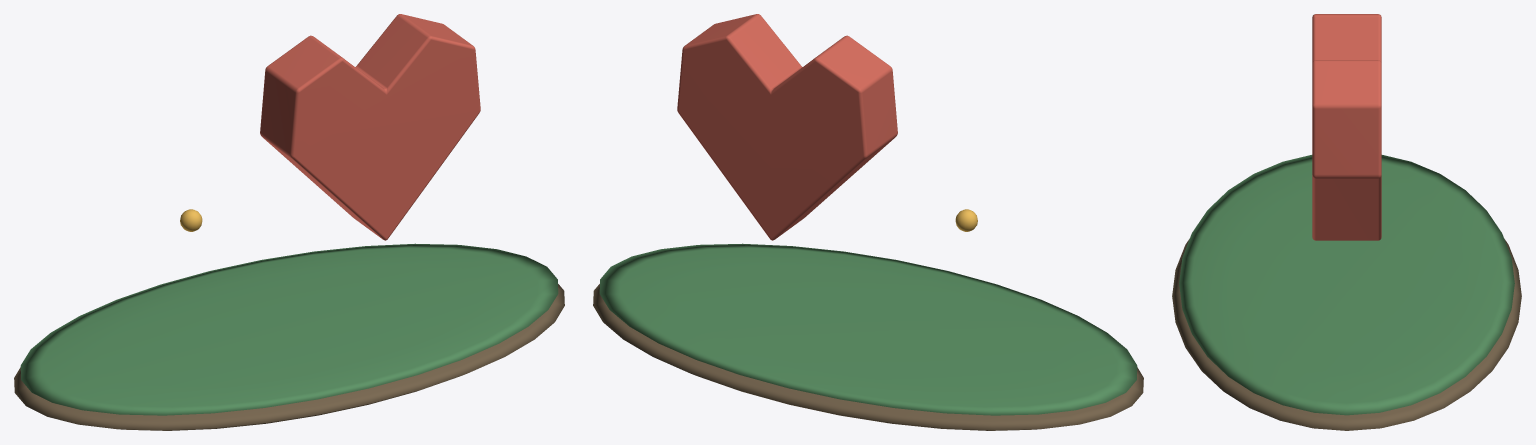
The model's file is small-careful-heart.glb.
The picture shows the model from 3 angles, left to right: view 1: azimuth 30°, elevation 25°; view 2: azimuth 150°, elevation 25°; view 3: azimuth 270°, elevation 25°; orthographic projection. The views are drawn at different scales.
Parts seen in each view (by area): view 1: small-careful-heart_surface_01, small-careful-heart_surface_03, small-careful-heart_surface_00; view 2: small-careful-heart_surface_01, small-careful-heart_surface_03, small-careful-heart_surface_00; view 3: small-careful-heart_surface_01, small-careful-heart_surface_03, small-careful-heart_surface_00.
Part boxes in pixels (bbox=[...]): small-careful-heart_surface_01: bbox=[20, 243, 558, 415]; small-careful-heart_surface_03: bbox=[260, 14, 480, 240]; small-careful-heart_surface_00: bbox=[14, 284, 564, 430]; small-careful-heart_surface_01: bbox=[599, 243, 1137, 415]; small-careful-heart_surface_03: bbox=[677, 14, 897, 240]; small-careful-heart_surface_00: bbox=[593, 284, 1143, 430]; small-careful-heart_surface_01: bbox=[1179, 155, 1514, 415]; small-careful-heart_surface_03: bbox=[1312, 14, 1381, 240]; small-careful-heart_surface_00: bbox=[1172, 239, 1521, 430].
Size of the model in its own units: 4.56 by 2.49 by 2.5.
